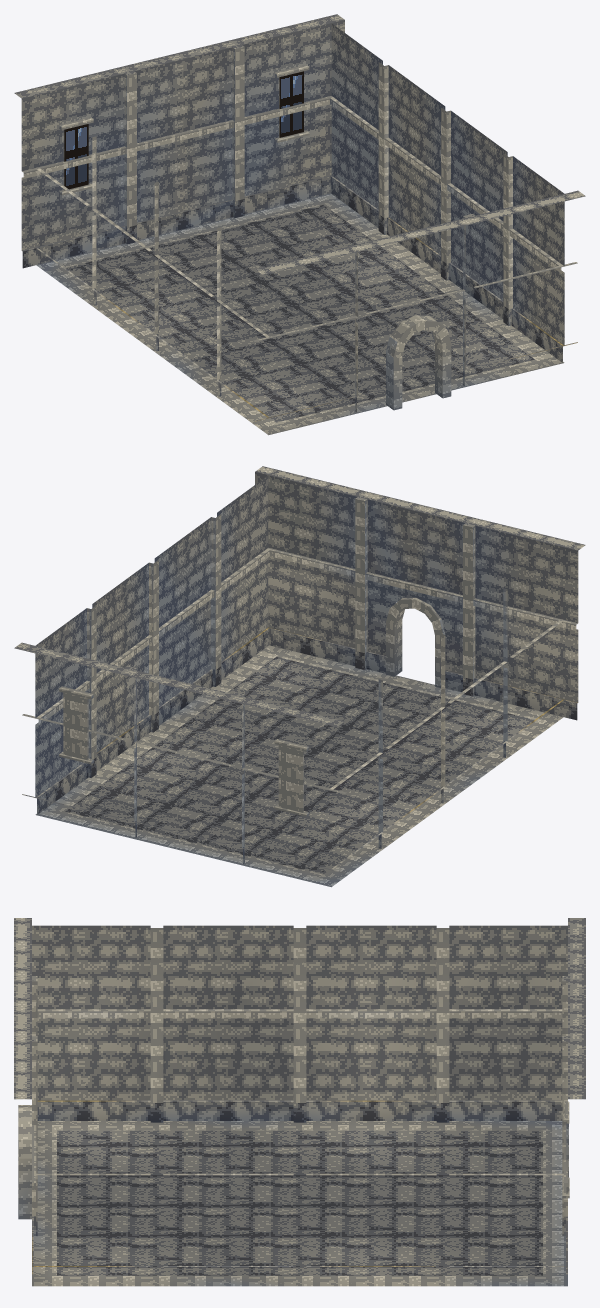
The model's file is cst.hall.glb.
The picture shows the model from 3 angles, top to bottom: view 1: azimuth 30°, elevation 25°; view 2: azimuth 150°, elevation 25°; view 3: azimuth 270°, elevation 25°; orthographic projection. The views are drawn at different scales.
Parts seen in each view (by area): view 1: kit_shell_walls, kit_shell_floor, kit_fittings; view 2: kit_shell_walls, kit_shell_floor, kit_fittings; view 3: kit_shell_walls, kit_shell_floor, kit_fittings.
Part boxes in pixels (<box>): kit_shell_walls: <box>14,14,585,421</box>; kit_shell_floor: <box>36,193,564,435</box>; kit_fittings: <box>59,64,451,410</box>; kit_shell_walls: <box>14,466,585,873</box>; kit_shell_floor: <box>35,645,563,887</box>; kit_fittings: <box>59,598,445,816</box>; kit_shell_walls: <box>14,918,585,1274</box>; kit_shell_floor: <box>32,1121,567,1286</box>; kit_fittings: <box>18,1101,569,1219</box>.
Bounding box in the file's own units: 12 × 6 × 16.
Materials: 5 (5 with a texture image).
